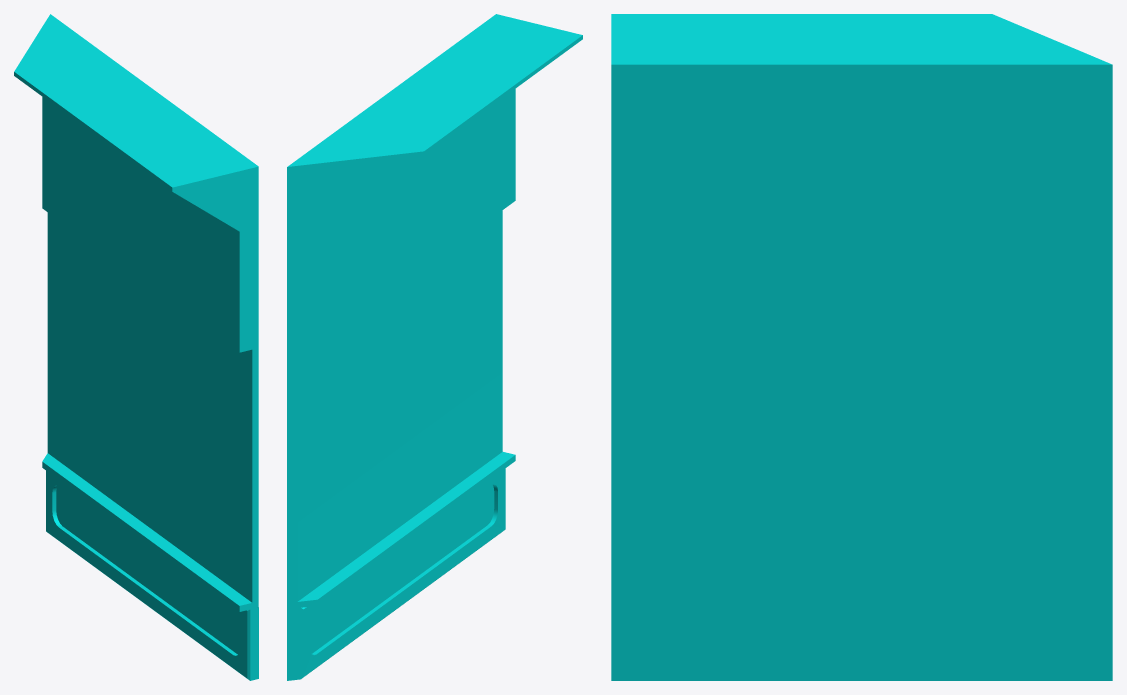
Rendered from BasementTallWallA.fbx.
3 views of the same model, side by side, from view 1: azimuth 30°, elevation 25°; view 2: azimuth 150°, elevation 25°; view 3: azimuth 270°, elevation 25° (orthographic). The views are drawn at different scales.
Parts seen in each view (by area): view 1: BasementTallWallA; view 2: BasementTallWallA; view 3: BasementTallWallA.
Boxes of the visible parts, x1,y1,x2,y2 form: BasementTallWallA: (14,14,258,680); BasementTallWallA: (287,14,582,680); BasementTallWallA: (611,14,1112,680).
Size of the model in its own units: 132 by 749 by 552.
